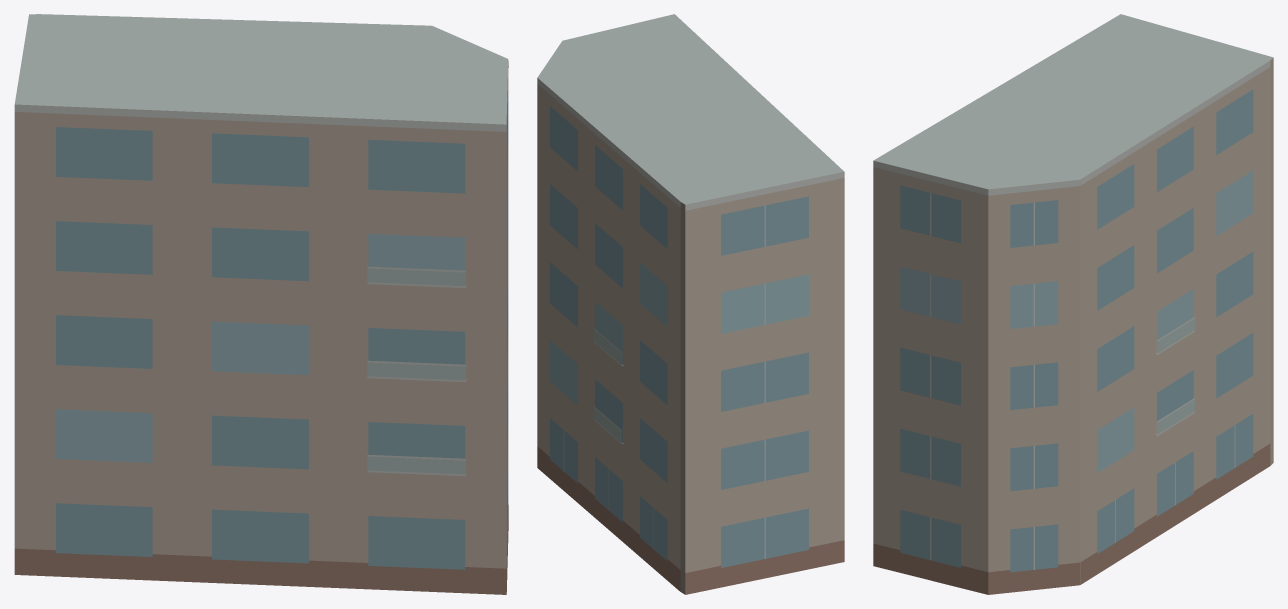
Rendered from survey-upis-32749238.glb.
3 views of the same model, side by side, from view 1: azimuth 30°, elevation 25°; view 2: azimuth 150°, elevation 25°; view 3: azimuth 270°, elevation 25° (orthographic). The views are drawn at different scales.
Visible parts, largest first — view 1: survey-upis-32749238.tmp; view 2: survey-upis-32749238.tmp; view 3: survey-upis-32749238.tmp.
Part boxes in pixels (x1,y1,x2,y2): survey-upis-32749238.tmp: (14, 14, 508, 594); survey-upis-32749238.tmp: (537, 14, 844, 594); survey-upis-32749238.tmp: (873, 14, 1273, 594).
Size of the model in its own units: 14.48 by 15.6 by 13.97.
